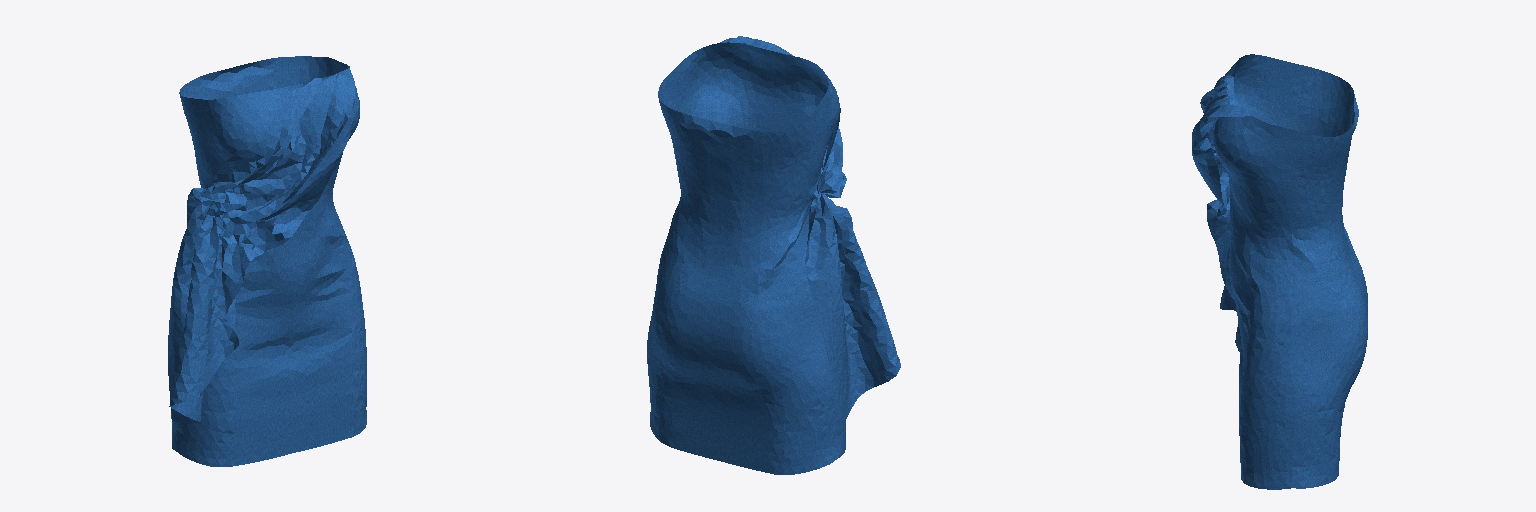
3 views of the same model, side by side, from view 1: azimuth 30°, elevation 25°; view 2: azimuth 150°, elevation 25°; view 3: azimuth 270°, elevation 25° (orthographic).
Visible parts, largest first — view 1: Pattern2D; view 2: Pattern2D; view 3: Pattern2D.
Boxes of the visible parts, x1=… form: Pattern2D: x1=168, y1=56, x2=366, y2=466; Pattern2D: x1=647, y1=36, x2=900, y2=474; Pattern2D: x1=1192, y1=54, x2=1367, y2=489.
Bounding box in the file's own units: 4.17 × 6.98 × 2.96.
Materials: 5 (1 with a texture image).